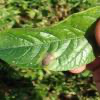Potato leaf late blight: (1, 7, 99, 69)
